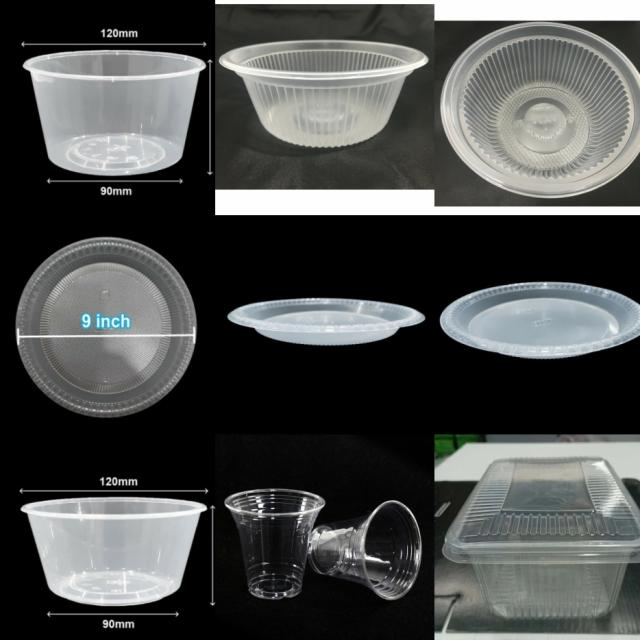plastik: (440, 23, 640, 197), (16, 237, 196, 417), (443, 458, 640, 619), (23, 50, 205, 176), (219, 40, 428, 147), (22, 497, 207, 606), (440, 282, 640, 358), (308, 501, 421, 600), (225, 489, 325, 599), (228, 298, 425, 345)
